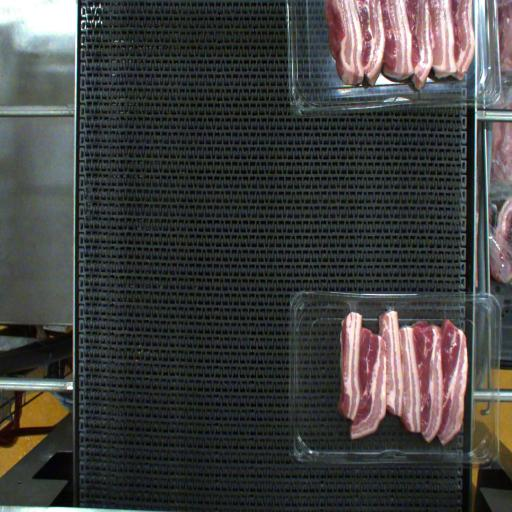packaging-error: (337, 292, 369, 320), (377, 292, 403, 320)
